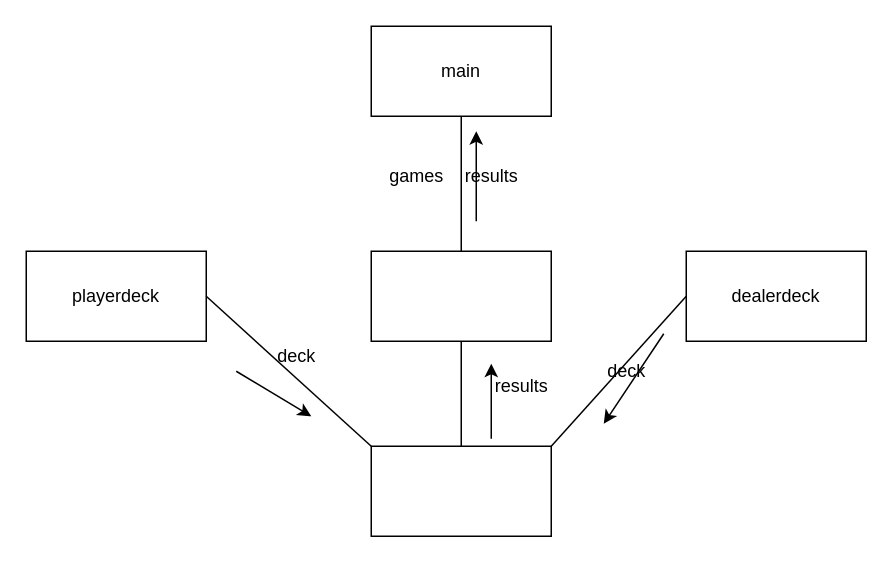
Some shapes in this 893 by 563 pixel diagram are drawn without their labels. The shapes that lost their labels are listed below. From the top down, each one's centre as x and y in pixels, then its label:
point (460, 295): simgames
point (460, 490): winblackjack
